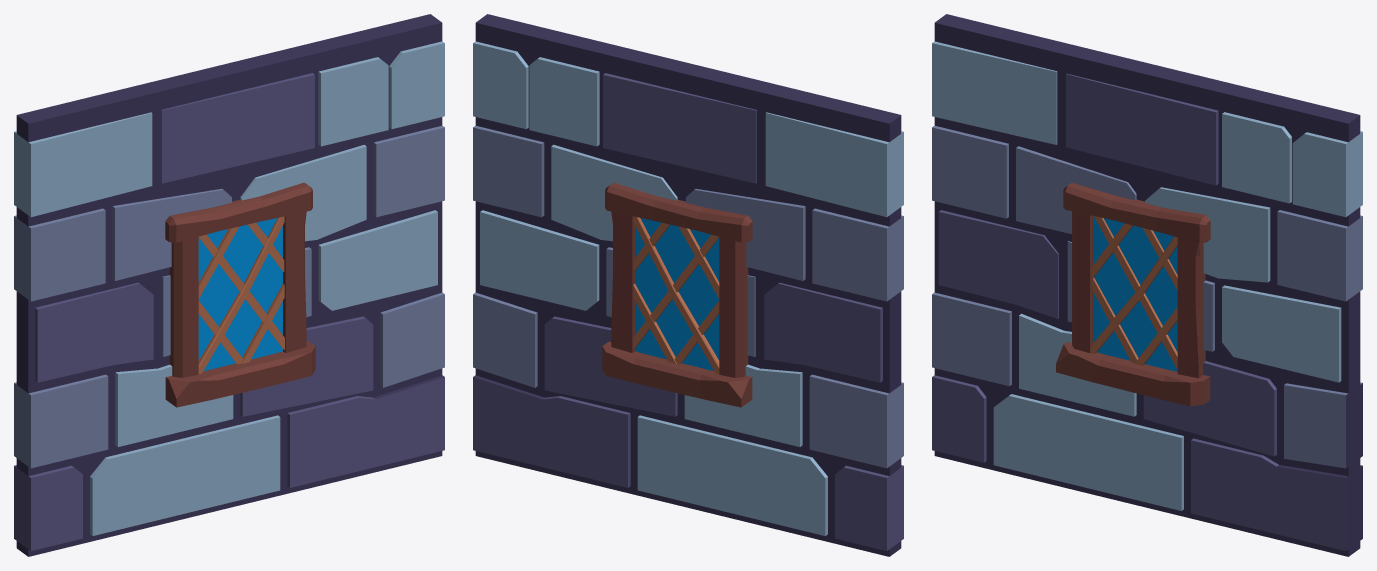
The model's file is Modular Wall 08 MK2 W1.fbx.
3 renders of one model, left to right at view 1: azimuth 30°, elevation 25°; view 2: azimuth 150°, elevation 25°; view 3: azimuth 330°, elevation 25°, orthographic.
Visible parts, largest first — view 1: Modular Wall 08 MK2 W1; view 2: Modular Wall 08 MK2 W1; view 3: Modular Wall 08 MK2 W1.
Boxes of the visible parts, left/top/right/bottom form: Modular Wall 08 MK2 W1: left=14, top=14, right=444, bottom=556; Modular Wall 08 MK2 W1: left=473, top=14, right=903, bottom=556; Modular Wall 08 MK2 W1: left=932, top=14, right=1362, bottom=556.
Bounding box in the file's own units: 400 × 400 × 66.15.
